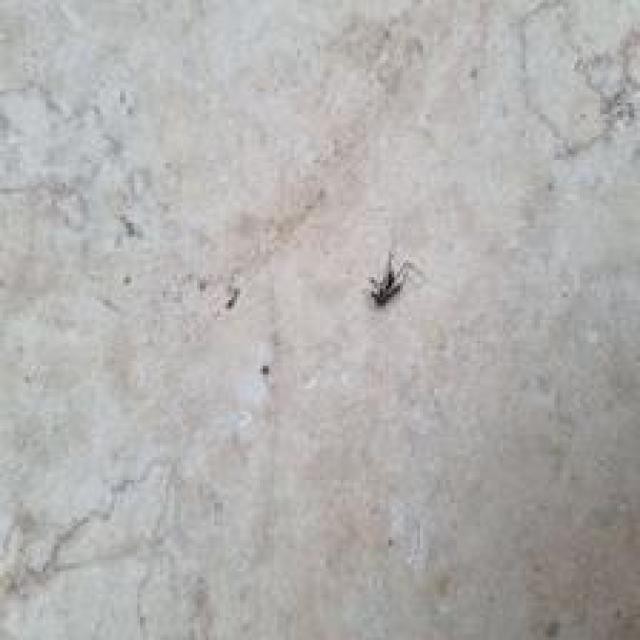Aedes albopictus: (366, 248, 414, 308)
